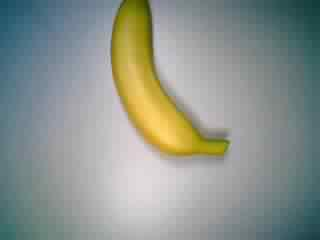banana: (103, 1, 235, 167)
